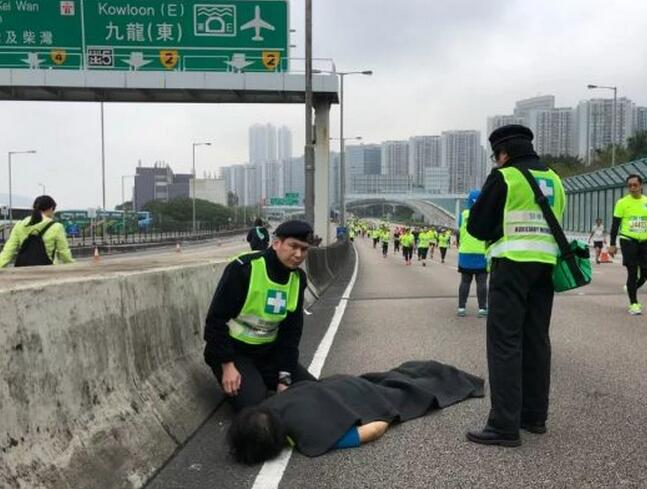10+: (2, 122, 647, 489)
down: (224, 347, 478, 466)
